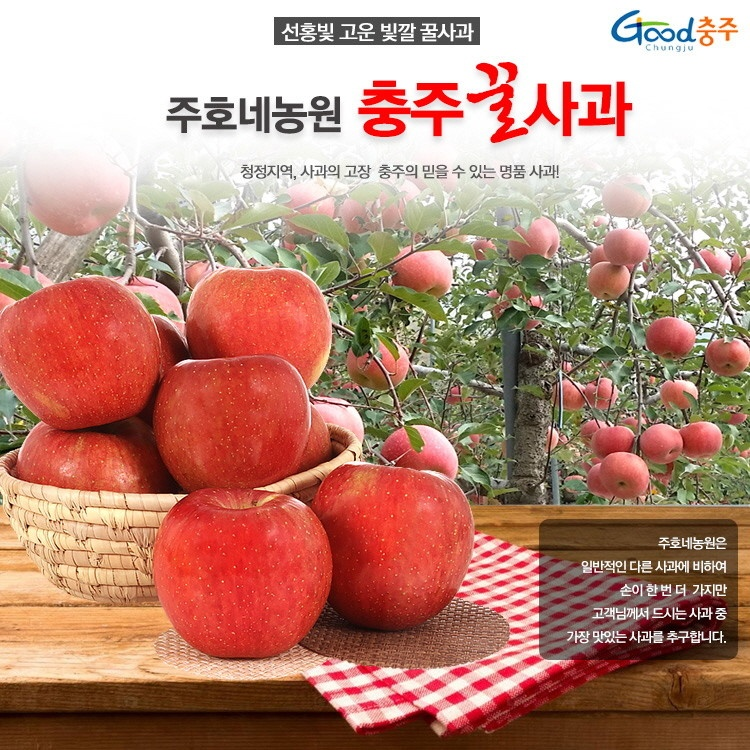apple: (159, 487, 338, 650), (318, 453, 482, 629), (1, 279, 162, 427), (184, 263, 330, 397), (162, 366, 311, 487), (17, 412, 170, 516), (20, 142, 134, 226), (346, 331, 418, 391), (396, 241, 461, 303), (278, 182, 339, 232), (507, 215, 566, 264), (595, 451, 655, 498), (341, 181, 394, 231), (647, 318, 698, 365), (703, 335, 750, 378), (602, 229, 651, 267), (585, 261, 632, 300), (676, 422, 718, 461), (641, 418, 679, 461), (658, 380, 705, 411), (593, 422, 631, 456), (691, 246, 734, 276), (493, 285, 524, 307), (447, 385, 476, 403), (545, 422, 560, 455), (528, 315, 545, 332)
